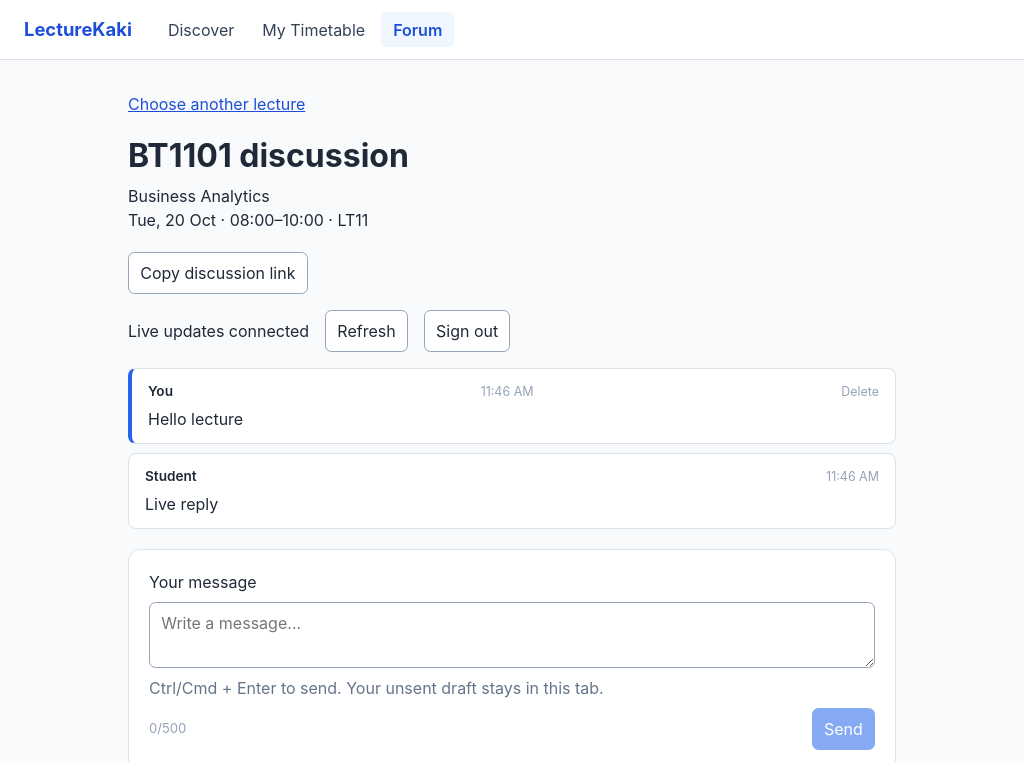
Test: loads history, delivers live replies and posts/deletes owned messages
This screenshot has width=1024, height=763.
Expected: the text "Hello lecture" is shown, 148,409 -> 243,429
Expected: the text "Live reply" is shown, 145,494 -> 218,514
Type "New question" into the text box labelled "Your message".
click(512, 635); type("New question")  # box 149,602 -> 875,668
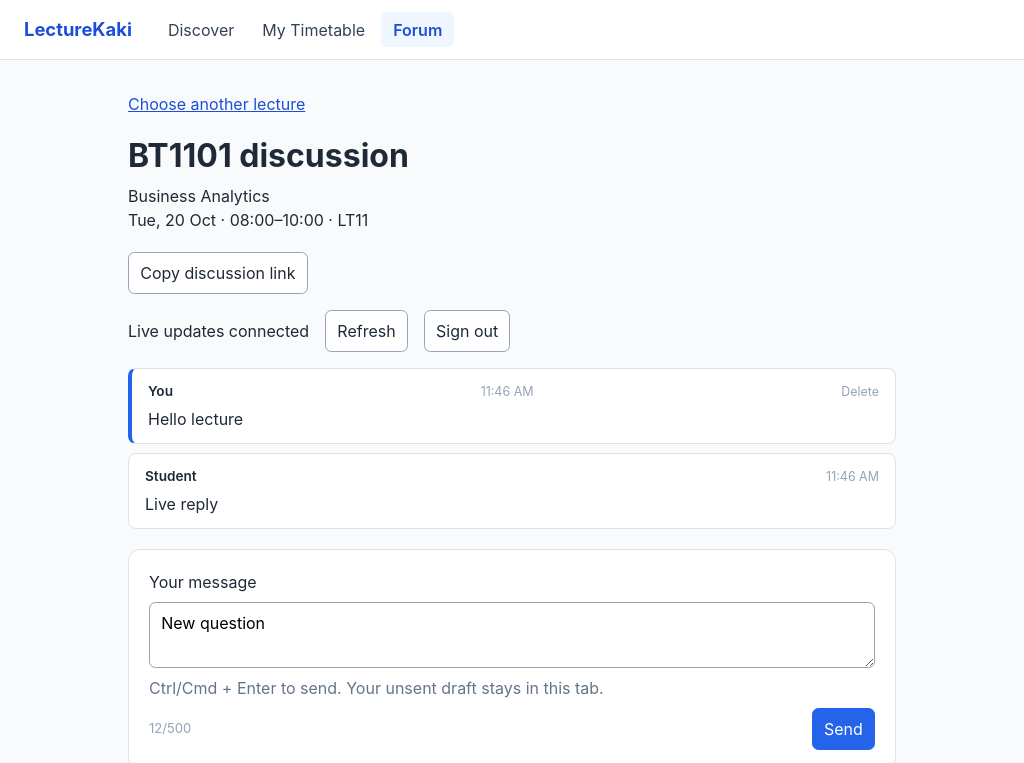
Click the button "Send".
click(843, 729)  # box 812,708 -> 875,750
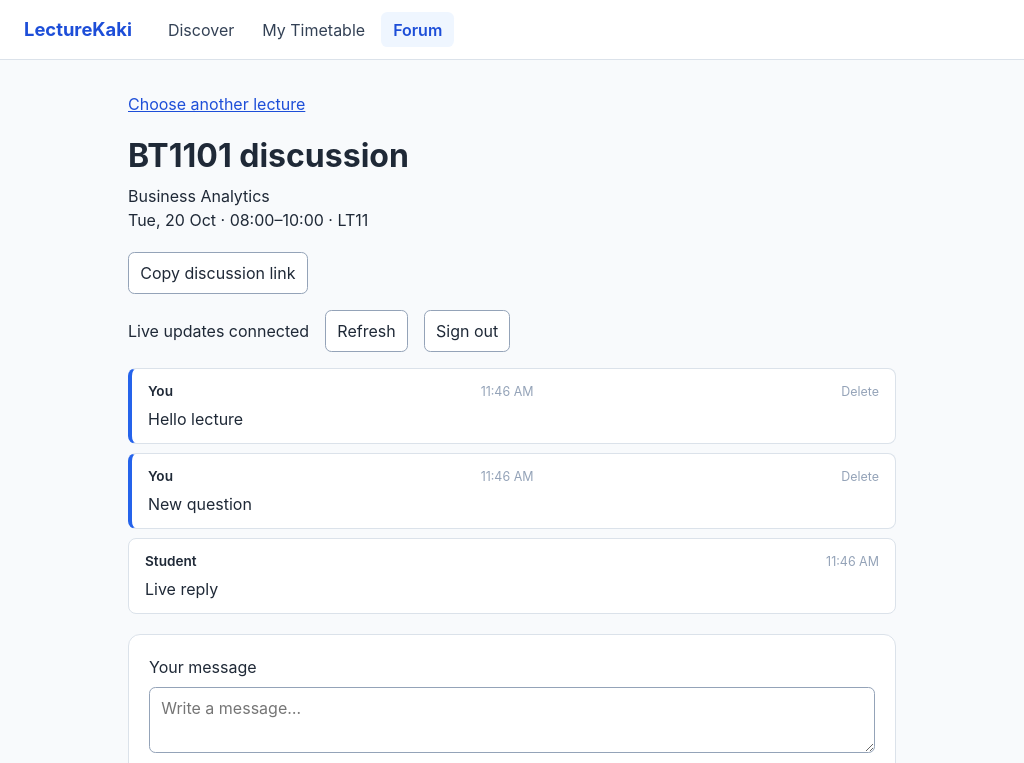
Expected: the text "New question" is shown once, 148,494 -> 252,514
Expected: the text box labelled "Your message" is empty, 149,687 -> 875,753
Click the 1st button "Delete".
click(860, 393)  # box 841,383 -> 879,402
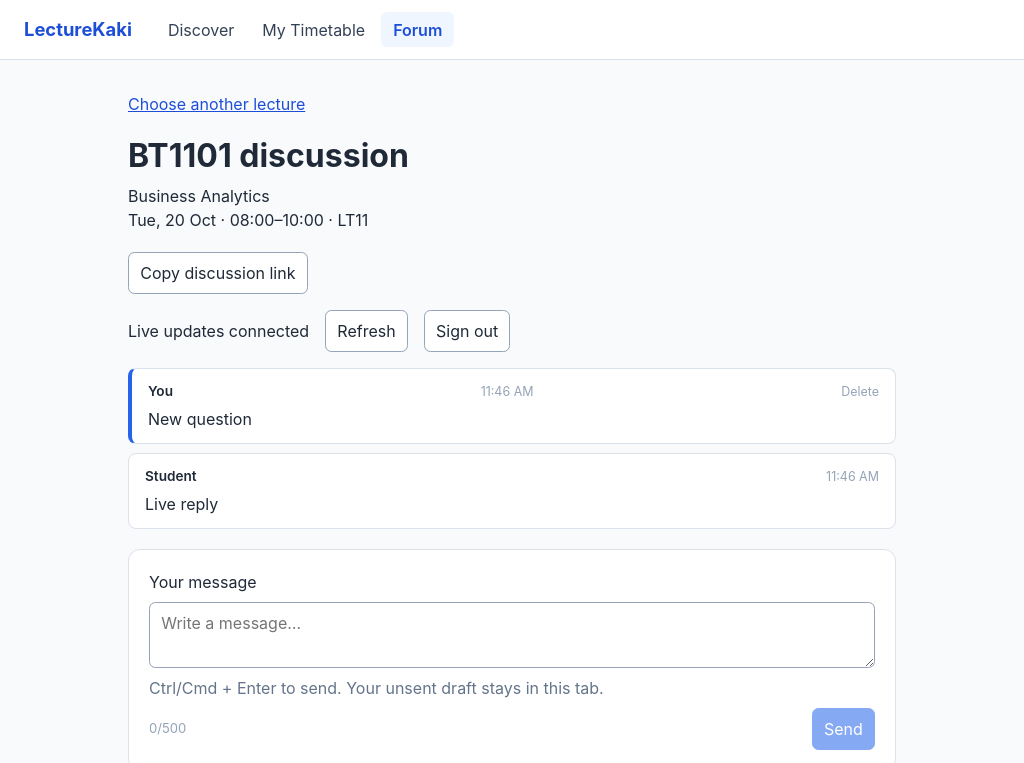
Expected: the text "Hello lecture" is gone
